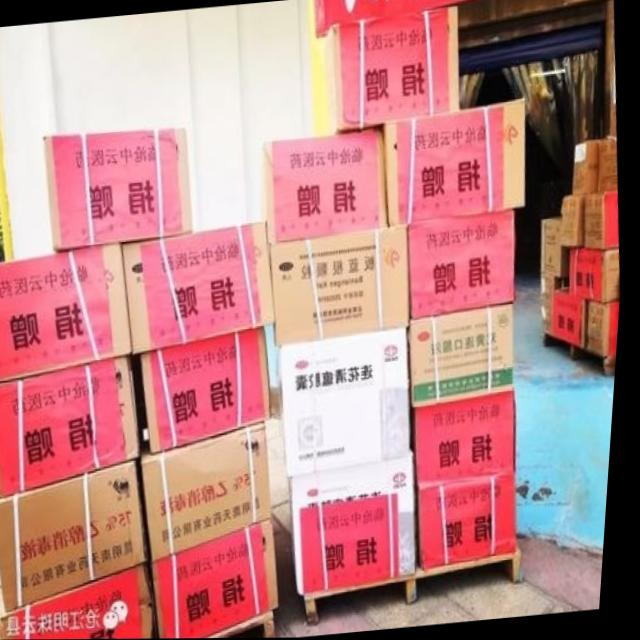box: (0, 460, 156, 612), (0, 355, 145, 499), (123, 222, 278, 353), (280, 330, 416, 478), (0, 244, 137, 384), (147, 421, 277, 561), (385, 99, 528, 226), (45, 129, 195, 250), (297, 456, 424, 596), (326, 6, 460, 134), (145, 326, 277, 454), (274, 226, 413, 345), (160, 519, 288, 639), (265, 126, 391, 245), (409, 211, 520, 319), (8, 565, 160, 640), (413, 306, 519, 409), (421, 391, 522, 490), (425, 475, 523, 571), (573, 248, 624, 302), (554, 287, 591, 349), (590, 298, 624, 359), (586, 192, 621, 250), (545, 218, 573, 278), (575, 141, 601, 197), (544, 273, 565, 335), (563, 195, 587, 249), (600, 138, 620, 192)
